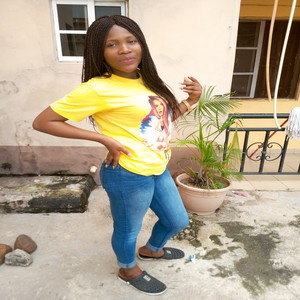Fulokoja_female_student: (78, 21, 185, 265)
